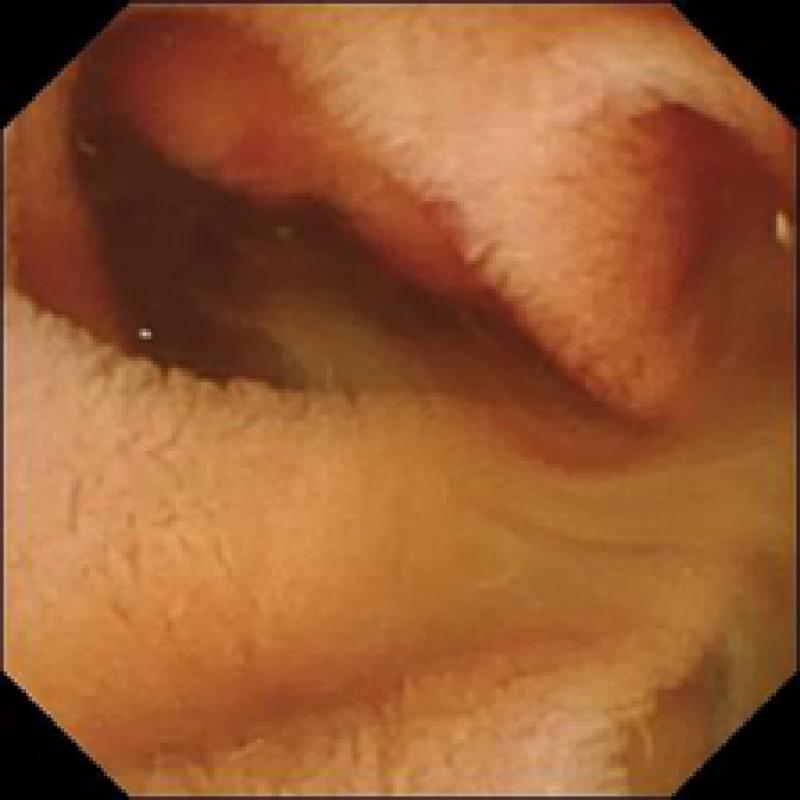bleeding: (14, 61, 785, 464)
